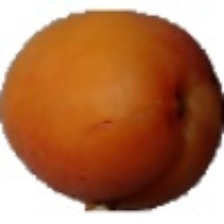apricot: (31, 27, 171, 177)
